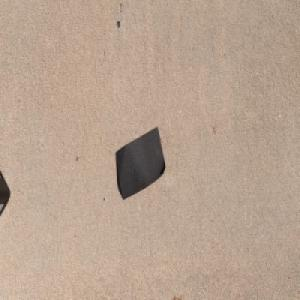PaintChip: (115, 125, 166, 201)
